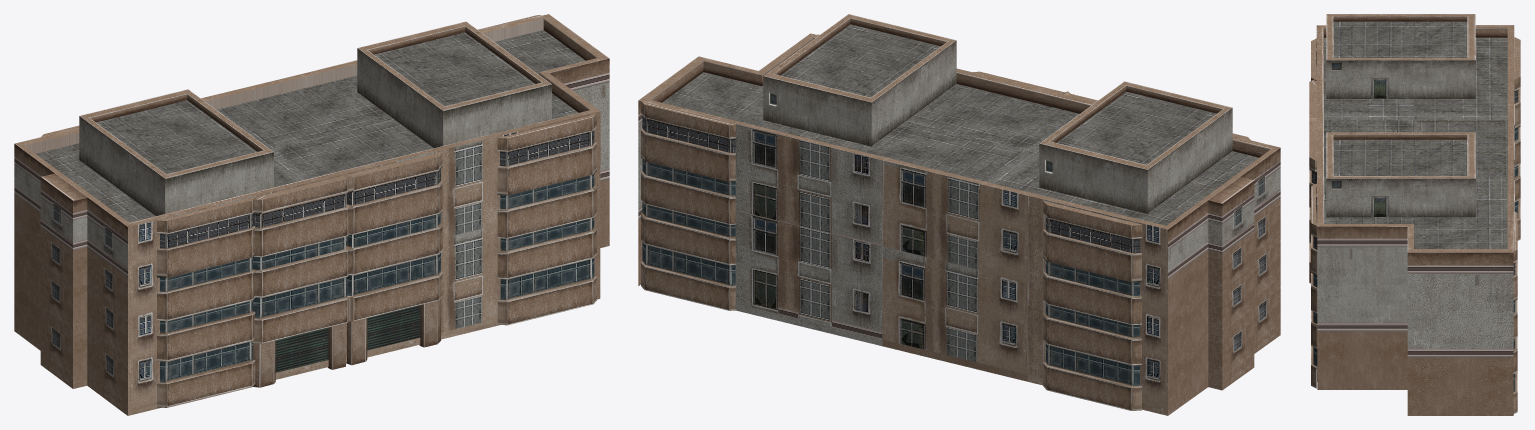
Rendered from buildings_01_03.FBX.
The picture shows the model from 3 angles, left to right: view 1: azimuth 30°, elevation 25°; view 2: azimuth 150°, elevation 25°; view 3: azimuth 270°, elevation 25°; orthographic projection. The views are drawn at different scales.
Visible parts, largest first — view 1: Object126; view 2: Object126; view 3: Object126.
Boxes of the visible parts, x1,y1,x2,y2 form: Object126: [14, 14, 609, 415]; Object126: [638, 14, 1280, 415]; Object126: [1309, 14, 1520, 415].
Size of the model in its own units: 3877 by 1486 by 1514.
1 material, 1 textured.
